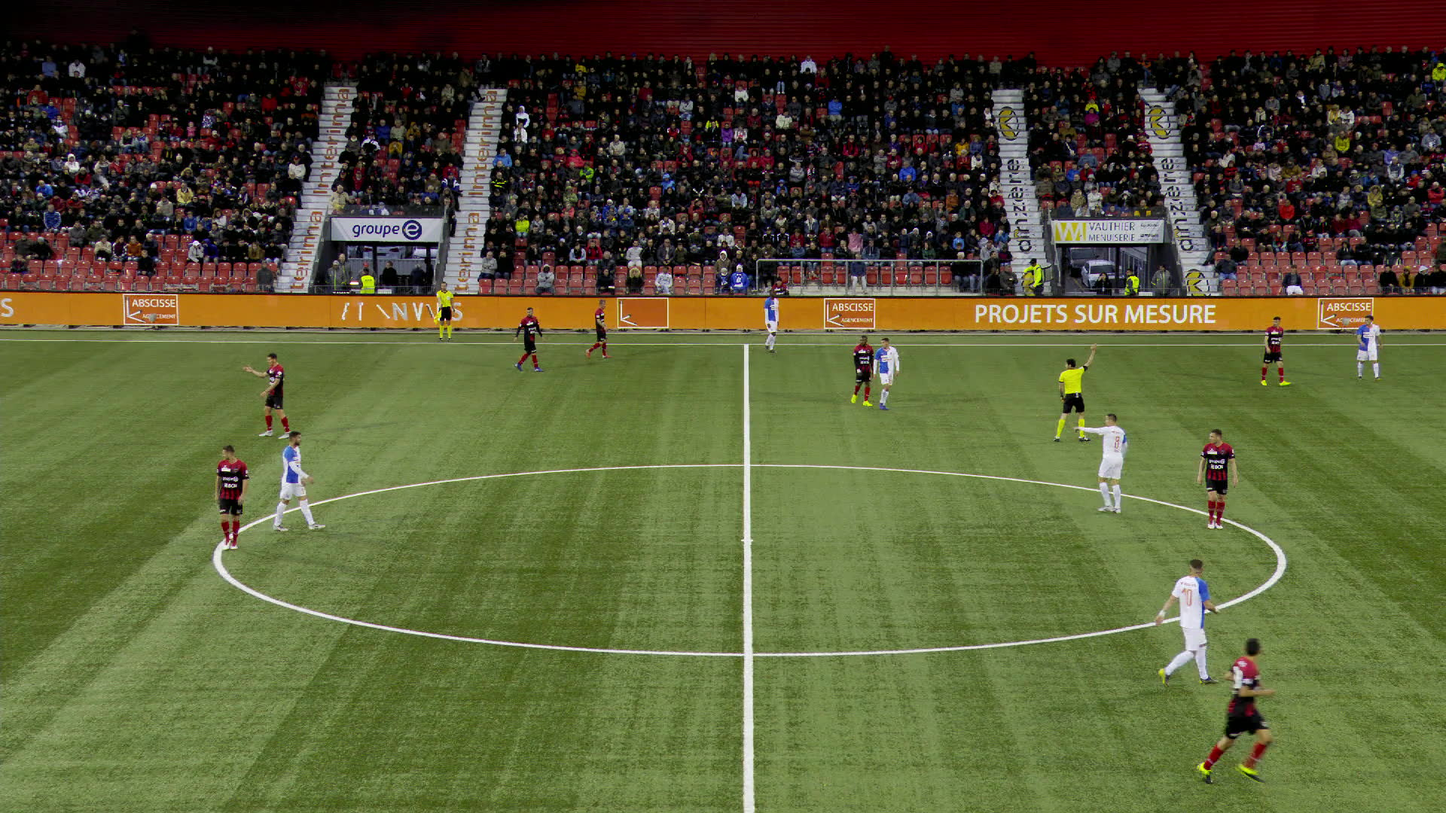player: (1188, 638, 1271, 788), (1156, 558, 1217, 686), (1069, 413, 1127, 513), (272, 430, 316, 530), (1194, 430, 1236, 530), (245, 352, 291, 437), (214, 446, 250, 550), (1258, 316, 1288, 386), (869, 338, 897, 410), (514, 306, 541, 370), (851, 335, 874, 406), (1356, 314, 1380, 381), (587, 299, 612, 358), (758, 289, 780, 352)
referee: (1053, 343, 1095, 442), (436, 282, 454, 340)
